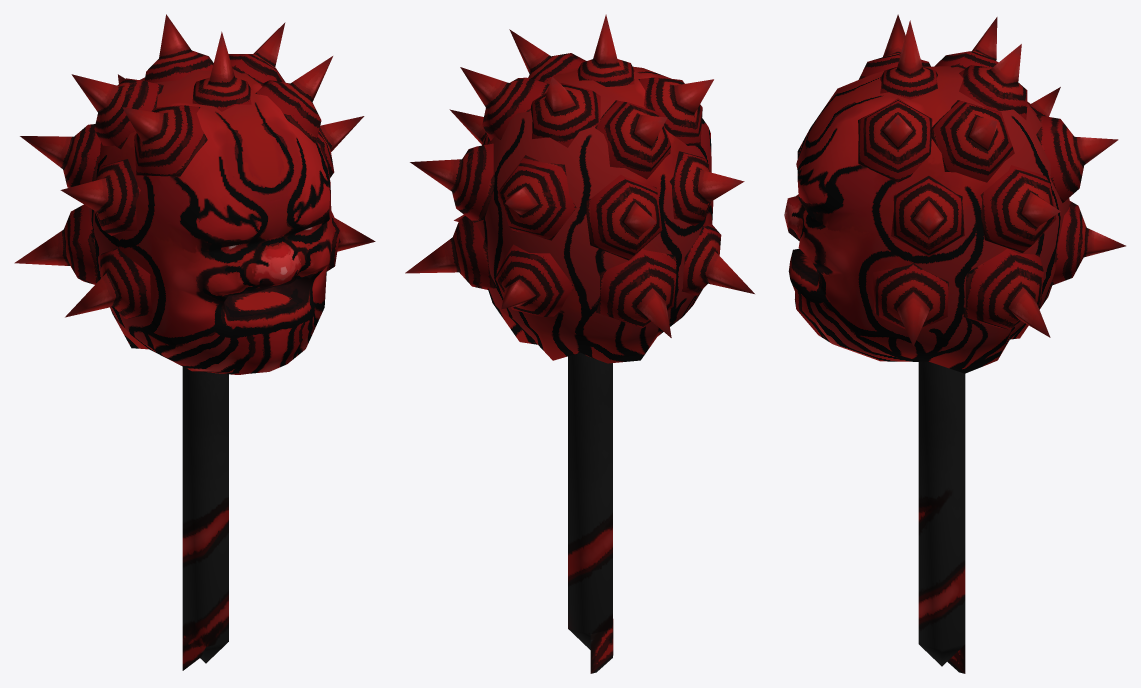
File: WP_1H_Mace10.FBX
3 views of the same model, side by side, from view 1: azimuth 30°, elevation 25°; view 2: azimuth 150°, elevation 25°; view 3: azimuth 270°, elevation 25° (orthographic). The views are drawn at different scales.
Visible parts, largest first — view 1: WP_1H_Mace10; view 2: WP_1H_Mace10; view 3: WP_1H_Mace10.
Part boxes in pixels (left/top/right/bottom): WP_1H_Mace10: left=14, top=14, right=375, bottom=670; WP_1H_Mace10: left=405, top=14, right=754, bottom=673; WP_1H_Mace10: left=784, top=14, right=1125, bottom=673.
Bounding box in the file's own units: 61.55 × 124 × 58.4.
